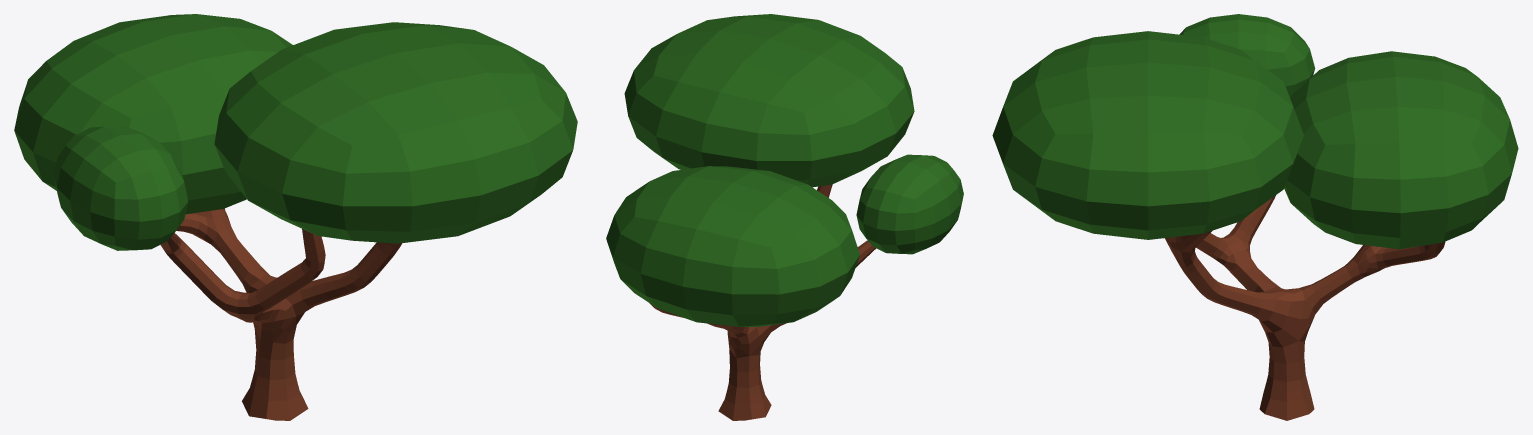
File: arbol2.fbx
The picture shows the model from 3 angles, left to right: view 1: azimuth 30°, elevation 25°; view 2: azimuth 150°, elevation 25°; view 3: azimuth 270°, elevation 25°; orthographic projection. The views are drawn at different scales.
Visible parts, largest first — view 1: Cube.007, Cube.008, Plane.005, Cube.006; view 2: Cube.007, Cube.008, Cube.006, Plane.005; view 3: Cube.007, Cube.008, Plane.005, Cube.006.
Boxes of the visible parts, <box> form: Cube.007: <box>214,22,577,243</box>; Cube.008: <box>14,14,292,214</box>; Plane.005: <box>160,208,401,420</box>; Cube.006: <box>53,126,188,250</box>; Cube.007: <box>624,14,914,187</box>; Cube.008: <box>606,166,859,326</box>; Cube.006: <box>856,154,963,254</box>; Plane.005: <box>649,184,875,420</box>; Cube.007: <box>992,31,1303,239</box>; Cube.008: <box>1284,51,1518,249</box>; Plane.005: <box>1165,195,1445,420</box>; Cube.006: <box>1179,14,1315,96</box>.
Size of the model in its own units: 1436 by 1299 by 1644.
